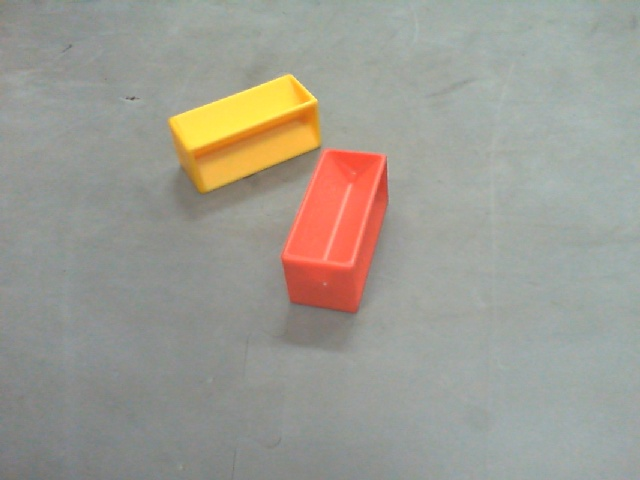RedSample: (278, 146, 394, 317)
YellowSample: (167, 75, 325, 194)
